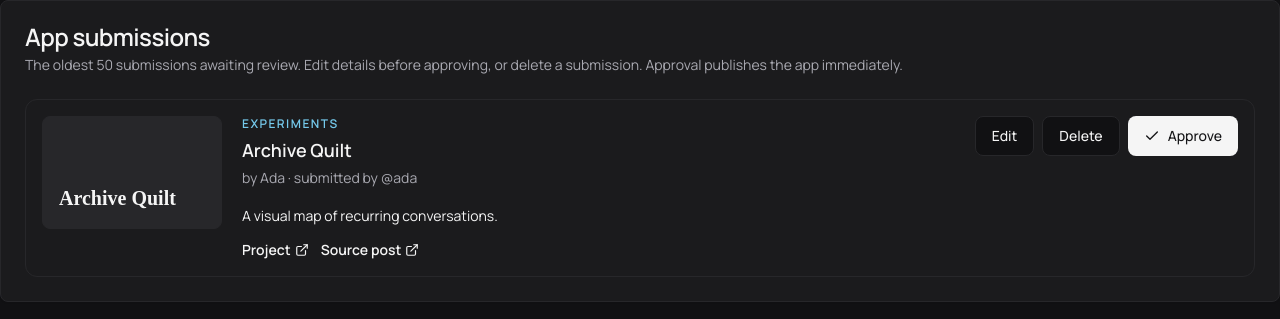
Test: CommunitySubmissionQueue › approves and removes a project from the pending queue
Expected: the heading "Archive Quilt" is shown, [242,138,352,162]
Click the button "Approve" at (1183, 136), box [1128,116,1238,156]
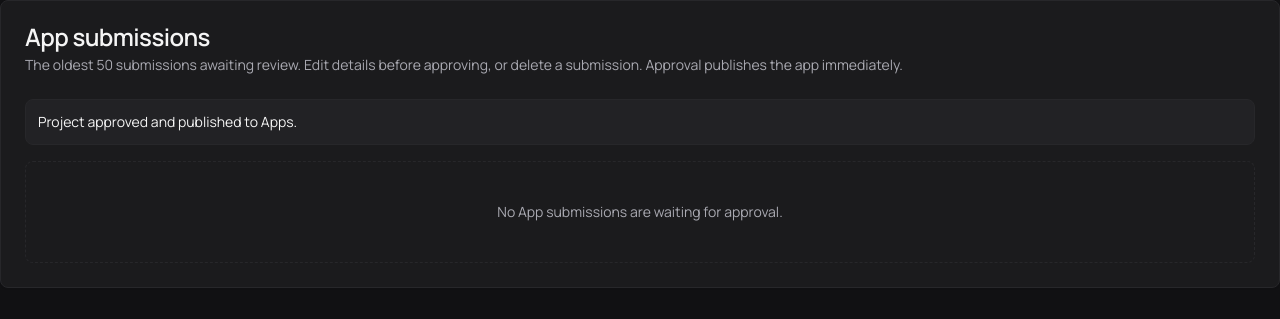
Now the text "Archive Quilt" is gone
Now the text "Project approved and published to Apps." is shown, box [25,99,1255,145]
Now the text "No App submissions are waiting for approval." is shown, box [25,161,1255,263]
